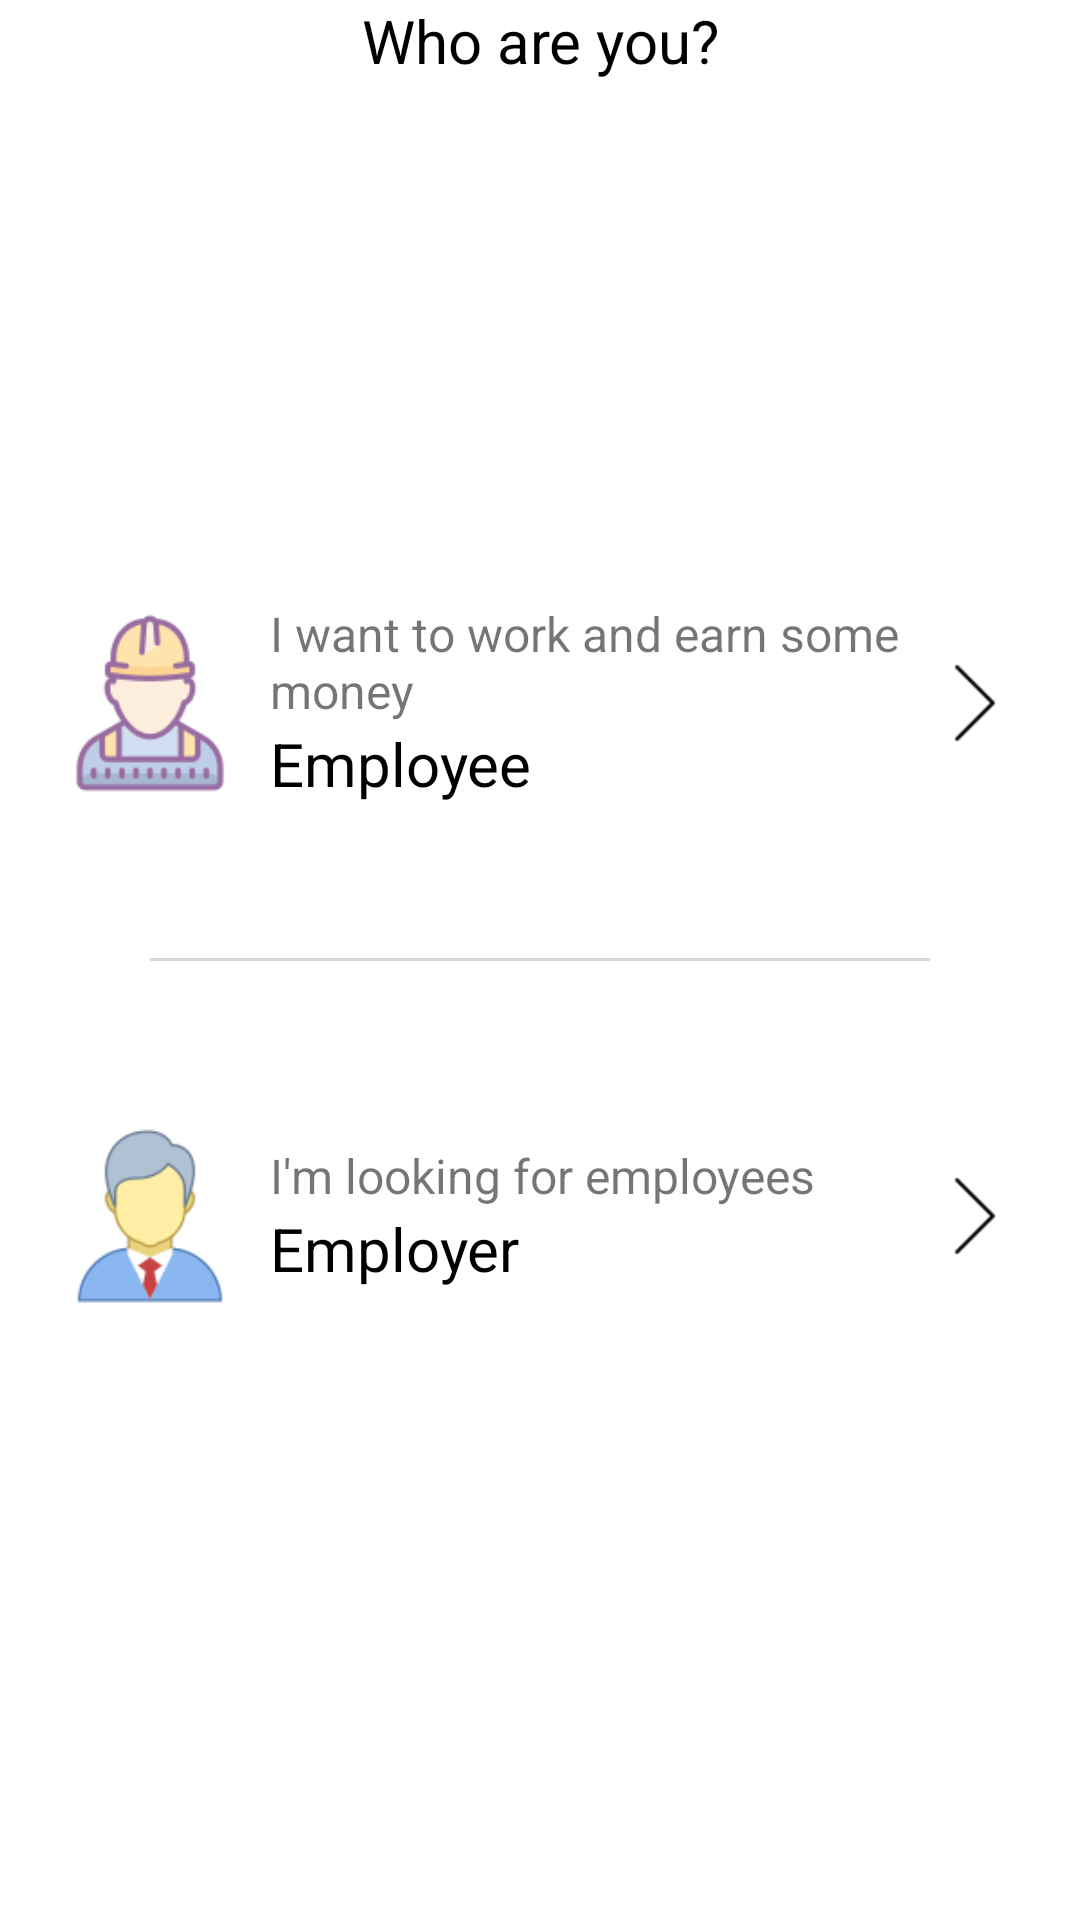

Screen size 1080×1920. Icon name, then its center in pixels as (x=x, y=y):
boss: (x=150, y=1216)
next: (x=975, y=703), (x=975, y=1216)
worker: (x=150, y=703)
